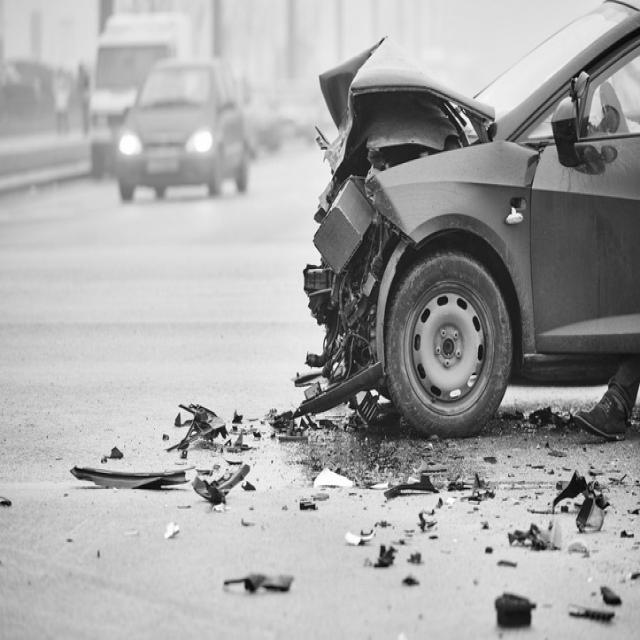crush: (289, 31, 495, 421)
